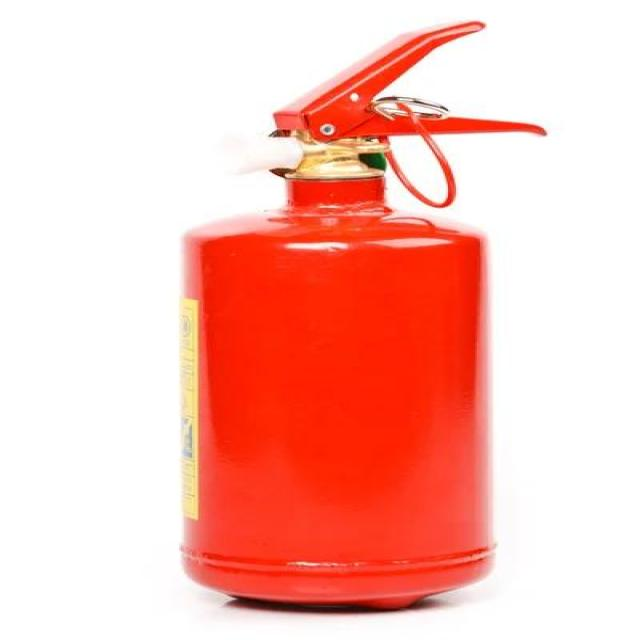fire_extinguisher: (164, 16, 558, 622)
